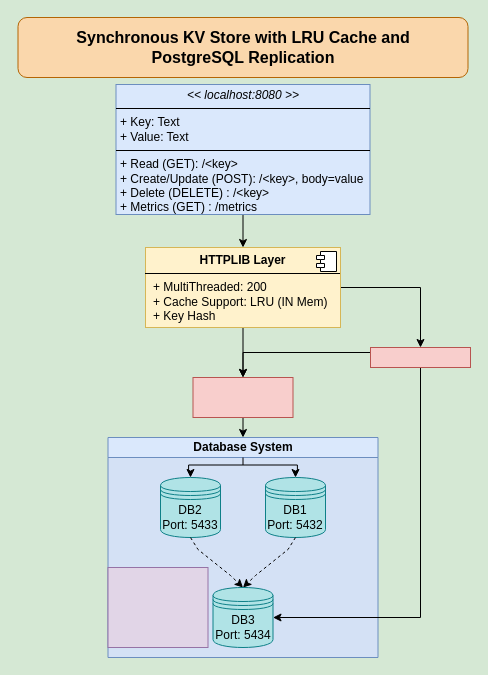
Image size: 488x675. Some labels were removed from this diagram. Each missing label, with the centre of its shape:
DELETE/PUT (Inline): point (242, 397)
GET (Look Aside): point (420, 357)
Replicated Status (Allows Reads in case of DB1 or DB2 failure): point (157, 607)
